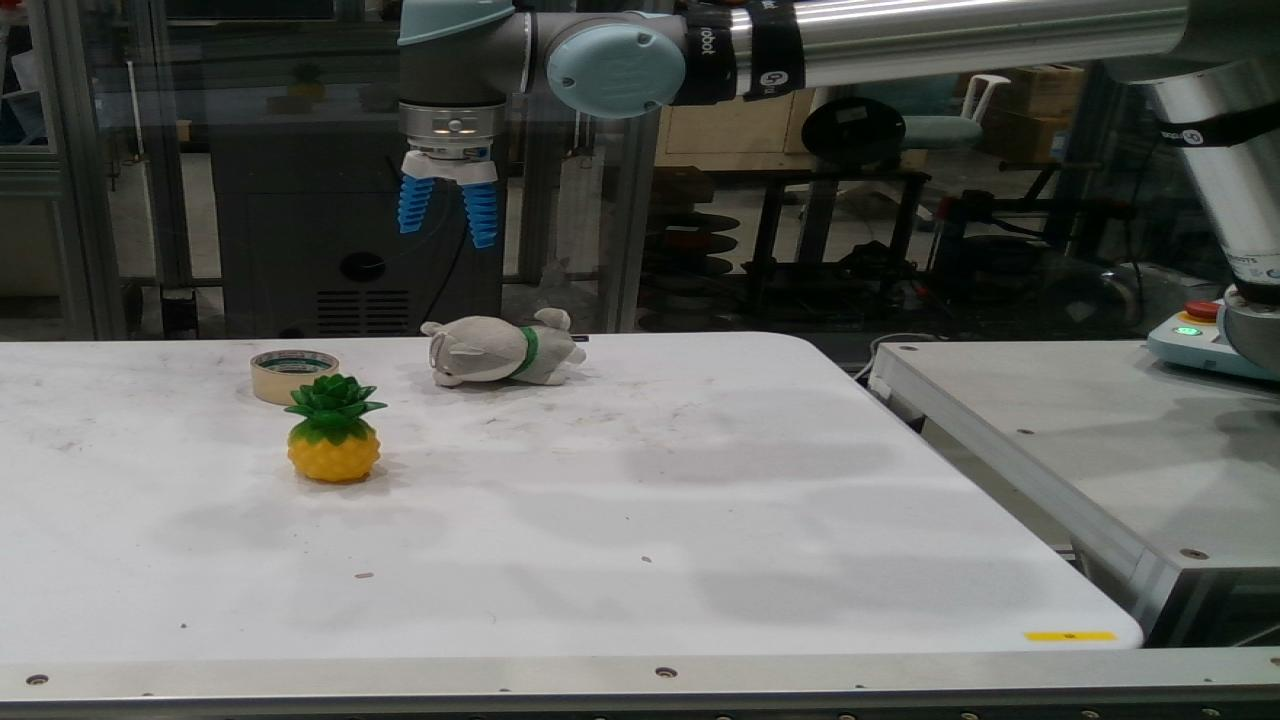UR5: (397, 0, 1279, 373)
gripper_left: (399, 175, 433, 233)
gripper_right: (463, 183, 497, 248)
target: (422, 308, 585, 386), (285, 374, 385, 483), (252, 350, 337, 404)
